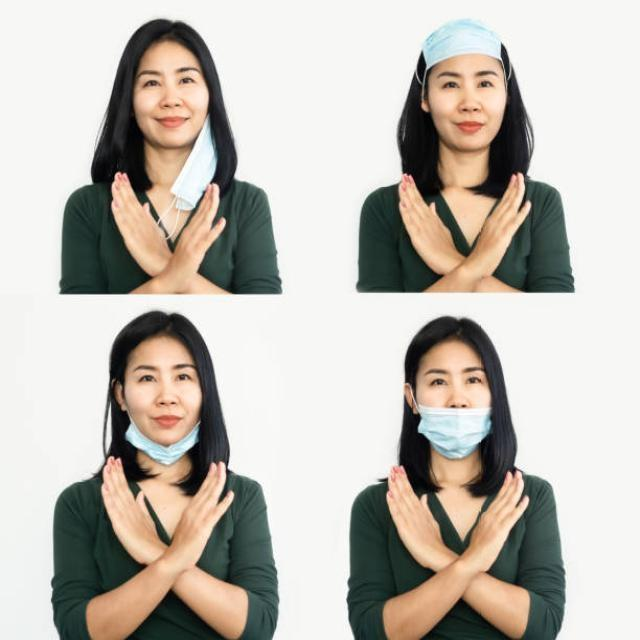hairnet: (121, 388, 204, 467), (411, 385, 494, 460)
no_hairnet: (432, 94, 509, 150), (131, 92, 204, 142)
